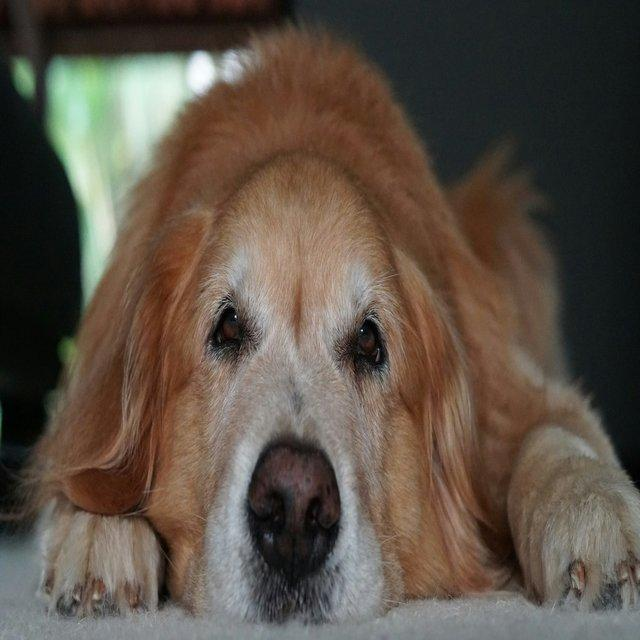retriever: (11, 21, 638, 627)
